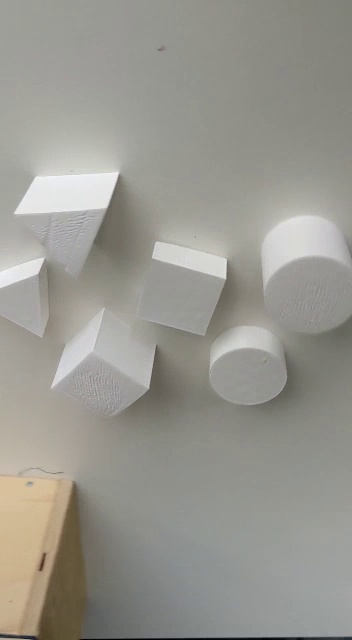Clyinder_short: (207, 325, 289, 407)
Cube: (52, 308, 161, 428)
Cube_short: (134, 239, 232, 341)
Cylinder: (258, 212, 352, 336)
Triangle: (17, 169, 120, 280)
Triangle_short: (1, 256, 56, 340)
